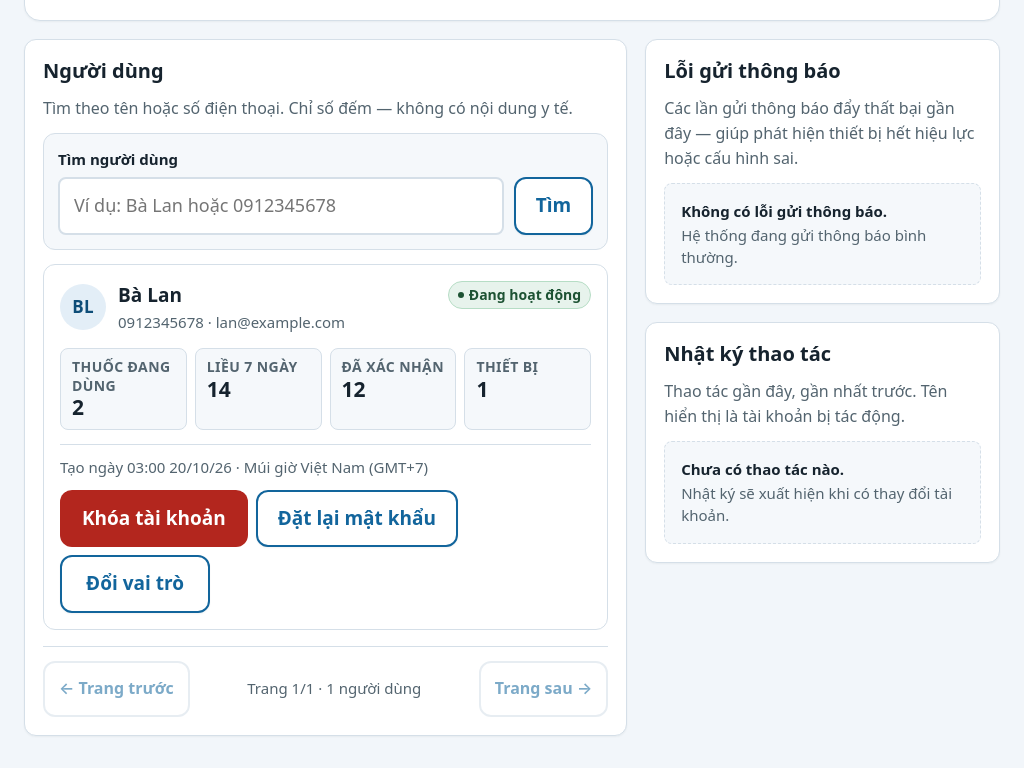
Scenario: Khu vực quản trị (chỉ đọc + khóa/mật khẩu) › admin đổi vai trò: chọn quản lý trong hộp thoại → gọi API và thông báo
(page scrolled)
Expected: the heading "Bà Lan" is shown, x1=118 y1=282 x2=182 y2=308
Click the button with aria-label "Đổi vai trò cho Bà Lan". click: (135,584)
box: x1=60 y1=555 x2=210 y2=613
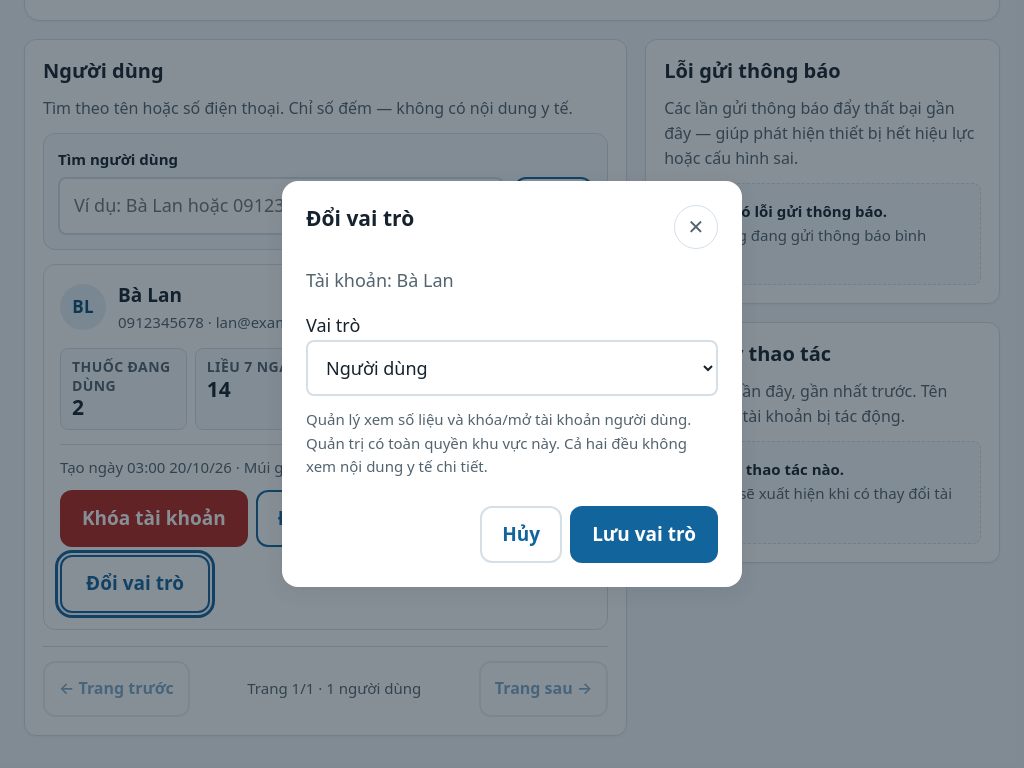
Select "Quản lý" in the dropdown labelled "Vai trò". click: (512,368)
box: x1=306 y1=340 x2=718 y2=396
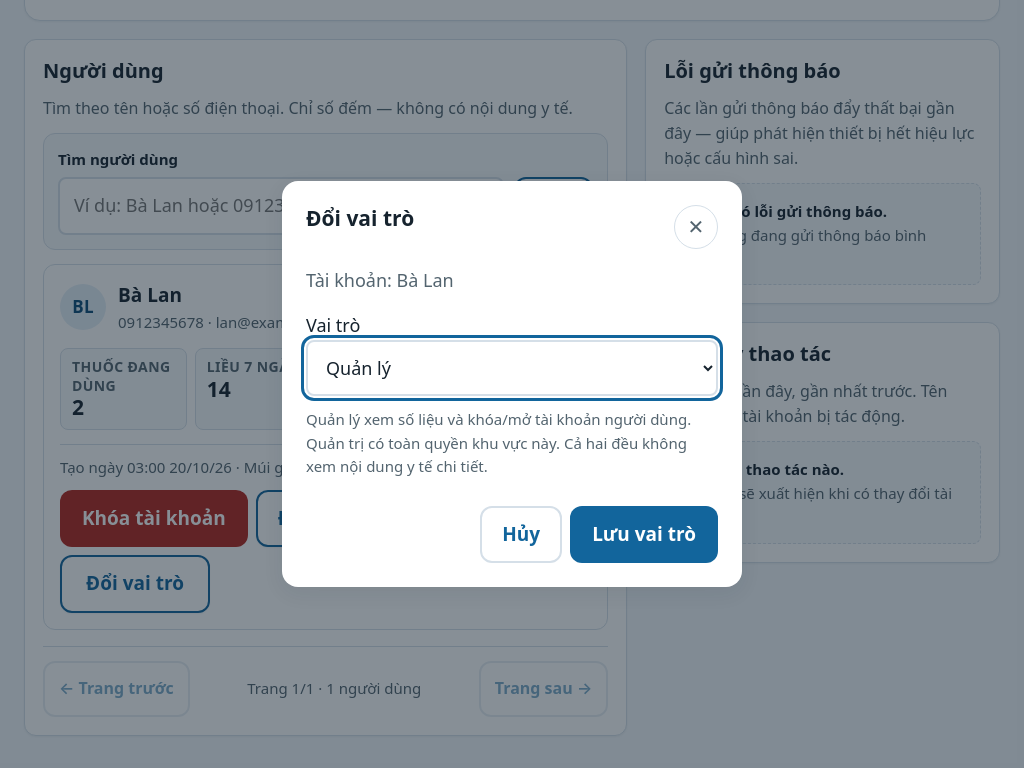
Click the button "Lưu vai trò". click: (644,535)
box: x1=570 y1=506 x2=718 y2=563
(page scrolled)
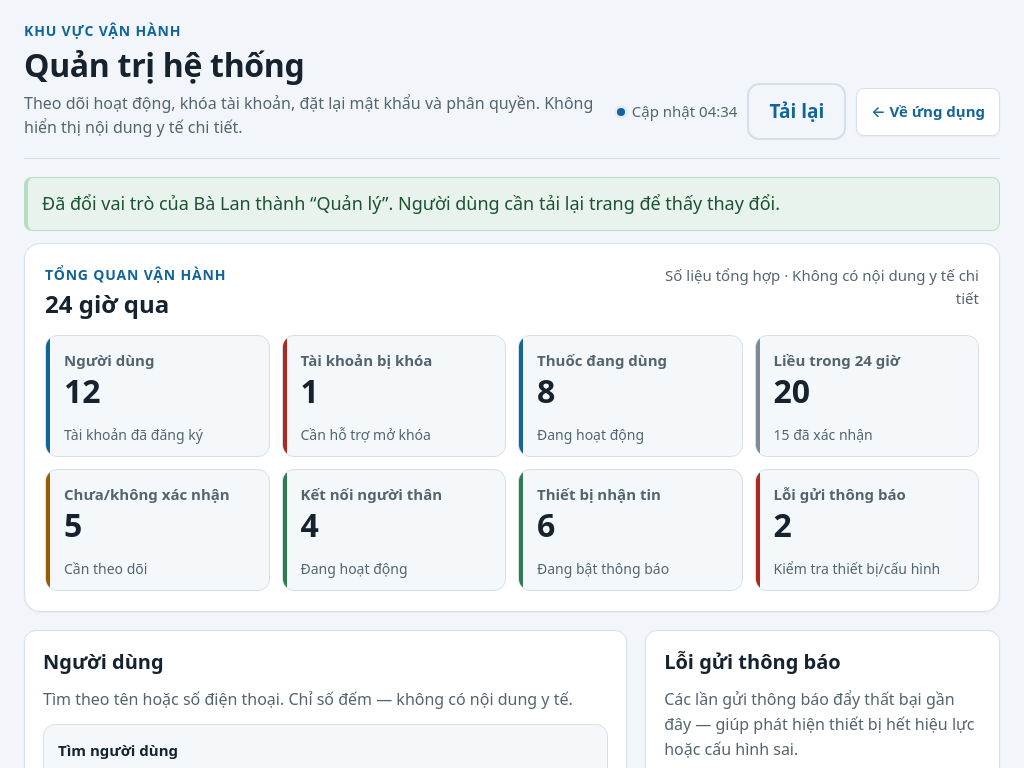
Expected: the text "Đã đổi vai trò của Bà Lan thành “Quản lý”" is shown, x1=42 y1=191 x2=780 y2=215
Expected: the dialog is gone
